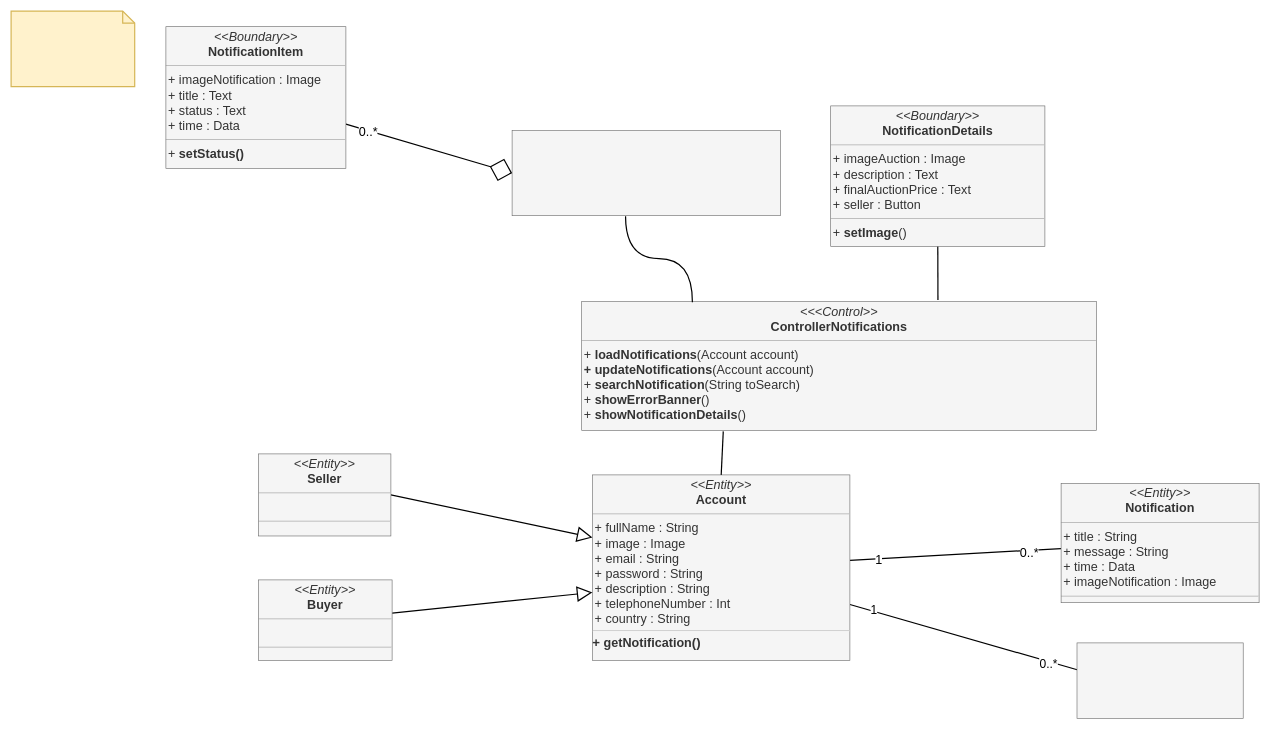
This 1270x729 diagram has some shape labels left out. Each missing label, with the centre of its shape:
<<Boundary>> Notifications + toSearch : TextField: point (646, 173)
<<Entity>> SocialLink + link : String: point (1159, 680)
Lo status di un'asta rappresenta se l'asta è stata vinta o se è fallita.: point (72, 48)
